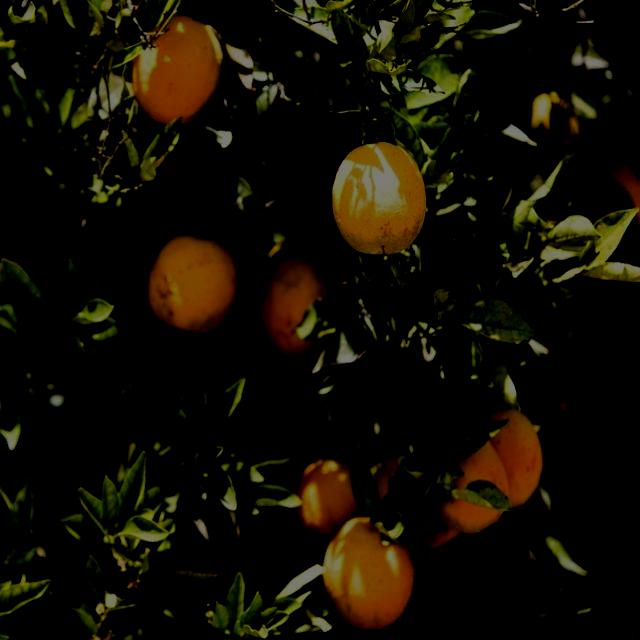Orange: (245, 227, 368, 373), (306, 507, 423, 638), (330, 136, 436, 278), (126, 15, 234, 140), (460, 394, 556, 522), (138, 227, 240, 342), (286, 450, 382, 566), (416, 420, 509, 538), (515, 89, 585, 178)
